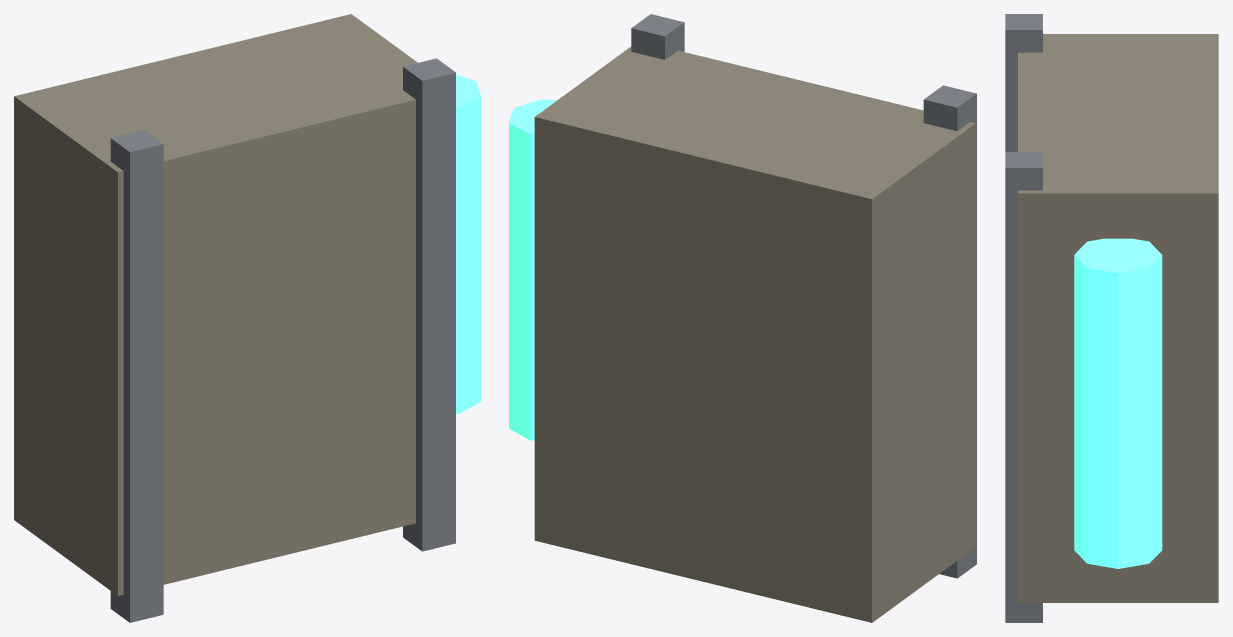
Rendered from pack_salvage_rig.glb.
3 views of the same model, side by side, from view 1: azimuth 30°, elevation 25°; view 2: azimuth 150°, elevation 25°; view 3: azimuth 270°, elevation 25° (orthographic). The views are drawn at different scales.
Parts seen in each view (by area): view 1: pack_salvage_rig; view 2: pack_salvage_rig; view 3: pack_salvage_rig.
Part boxes in pixels (x1,y1,x2,y2): pack_salvage_rig: (14,14,480,622); pack_salvage_rig: (509,14,976,622); pack_salvage_rig: (1005,14,1218,622).
Bounding box in the file's own units: 0.365 × 0.4 × 0.17.
